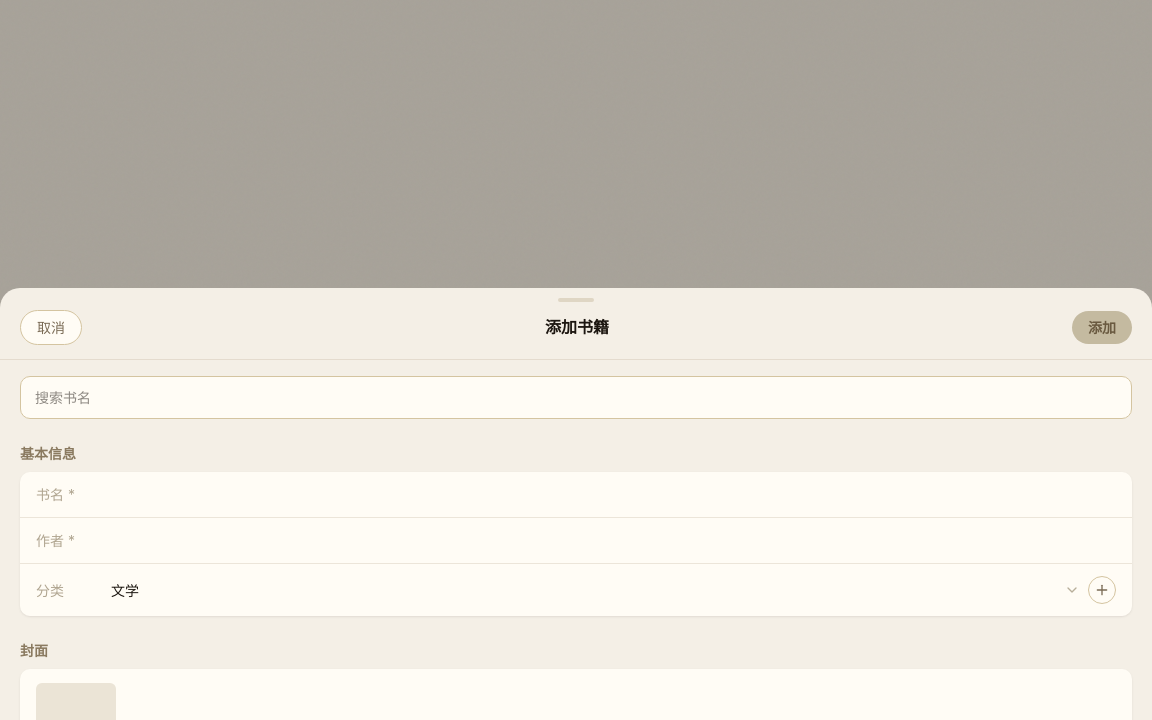
Test: 添加书籍弹窗里的分类列表 › 默认不弹出，点分类行才出现
This screenshot has width=1152, height=720.
Expected: the button named "新建分类" is shown, [1088, 576, 1116, 604]
Expected: the number of headings is 1, [545, 316, 609, 340]
Click the button with aria-label "选择分类" at (125, 590), box [111, 580, 1080, 600]
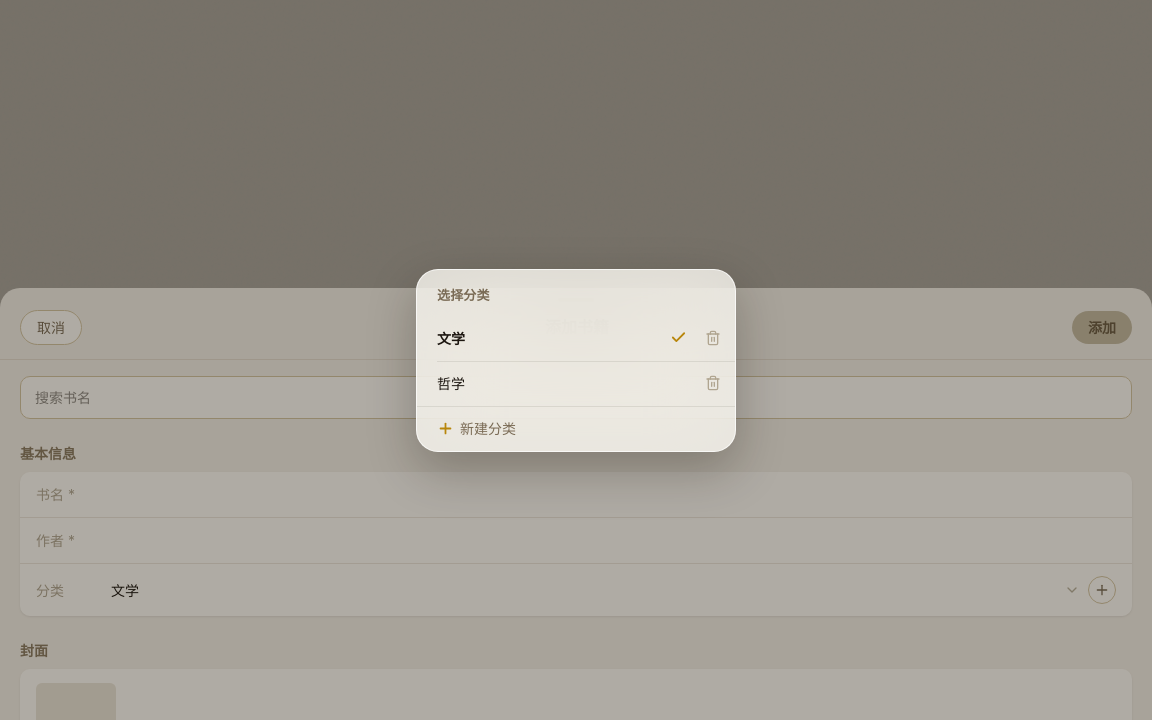
Expected: the heading "选择分类" is shown, [437, 287, 490, 303]
Expected: the dialog is shown, [416, 269, 736, 451]
